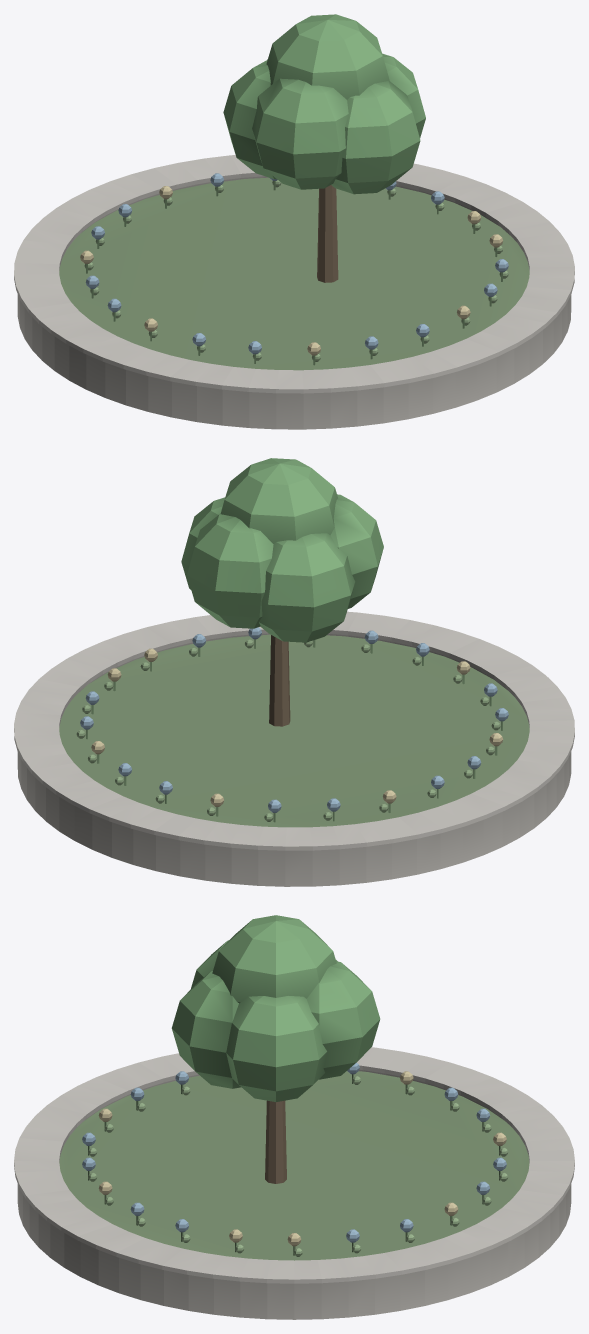
Rendered from plaza_garden_round_summer.glb.
3 views of the same model, one above another, from view 1: azimuth 30°, elevation 25°; view 2: azimuth 150°, elevation 25°; view 3: azimuth 270°, elevation 25° (orthographic).
Size of the model in its own units: 6.08 by 3.51 by 6.08.
